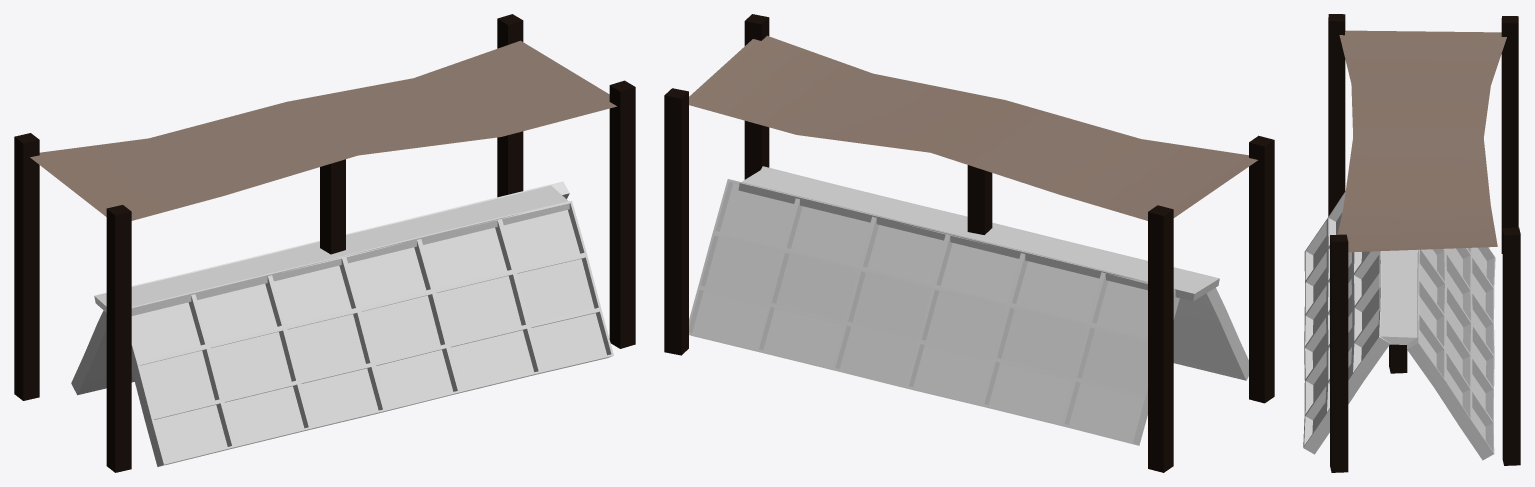
File: Shop_v1.fbx
The picture shows the model from 3 angles, left to right: view 1: azimuth 30°, elevation 25°; view 2: azimuth 150°, elevation 25°; view 3: azimuth 270°, elevation 25°; orthographic projection. The views are drawn at different scales.
Visible parts, largest first — view 1: Table2, Tent3, Tent4, Table3; view 2: Table3, Tent3, Tent4, Table2; view 3: Tent3, Table3, Table2, Tent4.
Boxes of the visible parts, <box> form: Table2: <box>131,200,613,466</box>; Tent3: <box>14,14,635,472</box>; Tent4: <box>94,185,569,315</box>; Table3: <box>71,181,569,395</box>; Table3: <box>689,179,1179,445</box>; Tent3: <box>664,14,1274,472</box>; Tent4: <box>738,167,1219,301</box>; Table2: <box>761,166,1248,380</box>; Tent3: <box>1328,14,1520,472</box>; Table3: <box>1407,247,1495,460</box>; Table2: <box>1303,191,1390,454</box>; Tent4: <box>1379,249,1419,344</box>.
Bounding box in the file's own units: 7.55 × 3.76 × 3.04.
